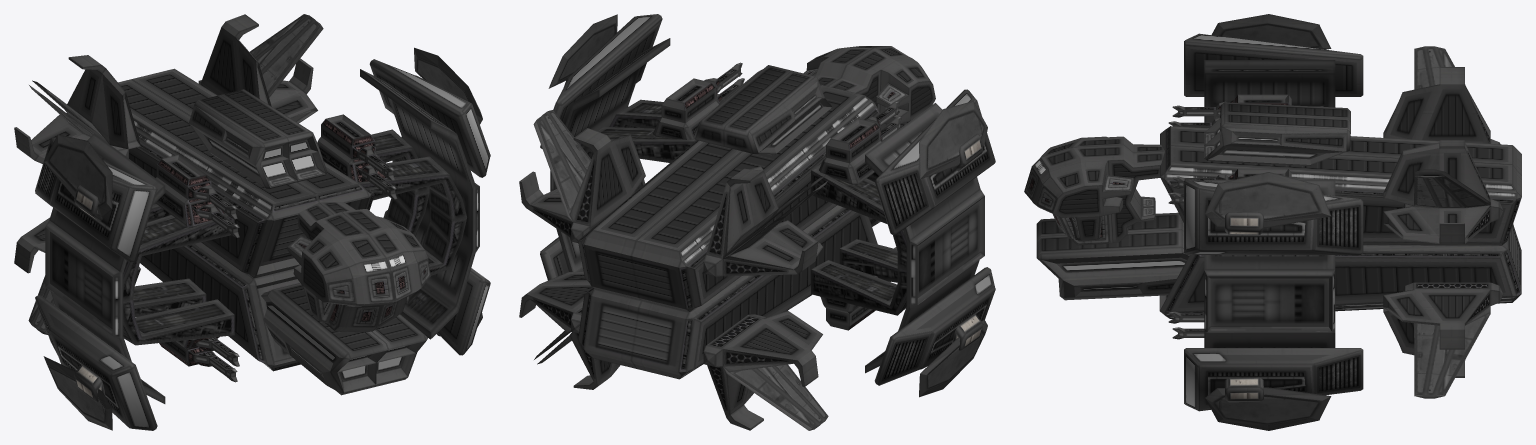
The model's file is omegaisTioCruiserB.FBX.
3 renders of one model, left to right at view 1: azimuth 30°, elevation 25°; view 2: azimuth 150°, elevation 25°; view 3: azimuth 270°, elevation 25°, orthographic. The views are drawn at different scales.
Visible parts, largest first — view 1: CruiserB; view 2: CruiserB; view 3: CruiserB.
Part boxes in pixels (<box>): CruiserB: <box>14,14,490,430</box>; CruiserB: <box>519,14,995,430</box>; CruiserB: <box>1024,14,1521,430</box>.
Size of the model in its own units: 652 by 787 by 452.
